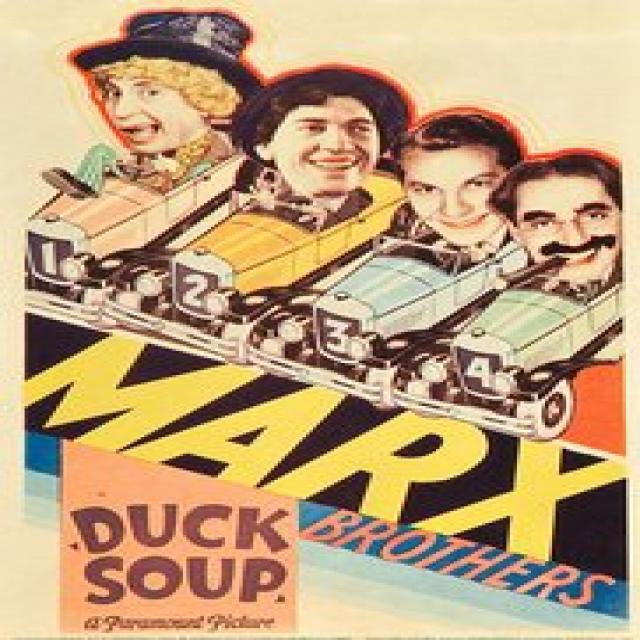movie-judul: (26, 315, 631, 632)
picture: (12, 2, 636, 459)
